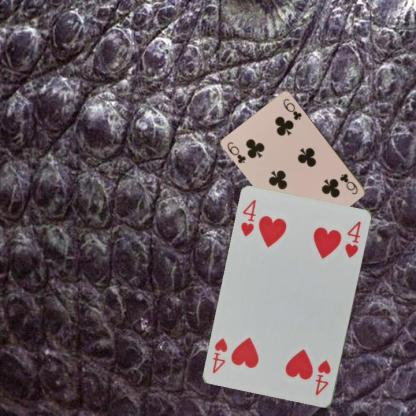4h: (238, 197, 258, 238), (313, 357, 332, 397)
6c: (225, 139, 247, 165), (338, 171, 360, 196)
